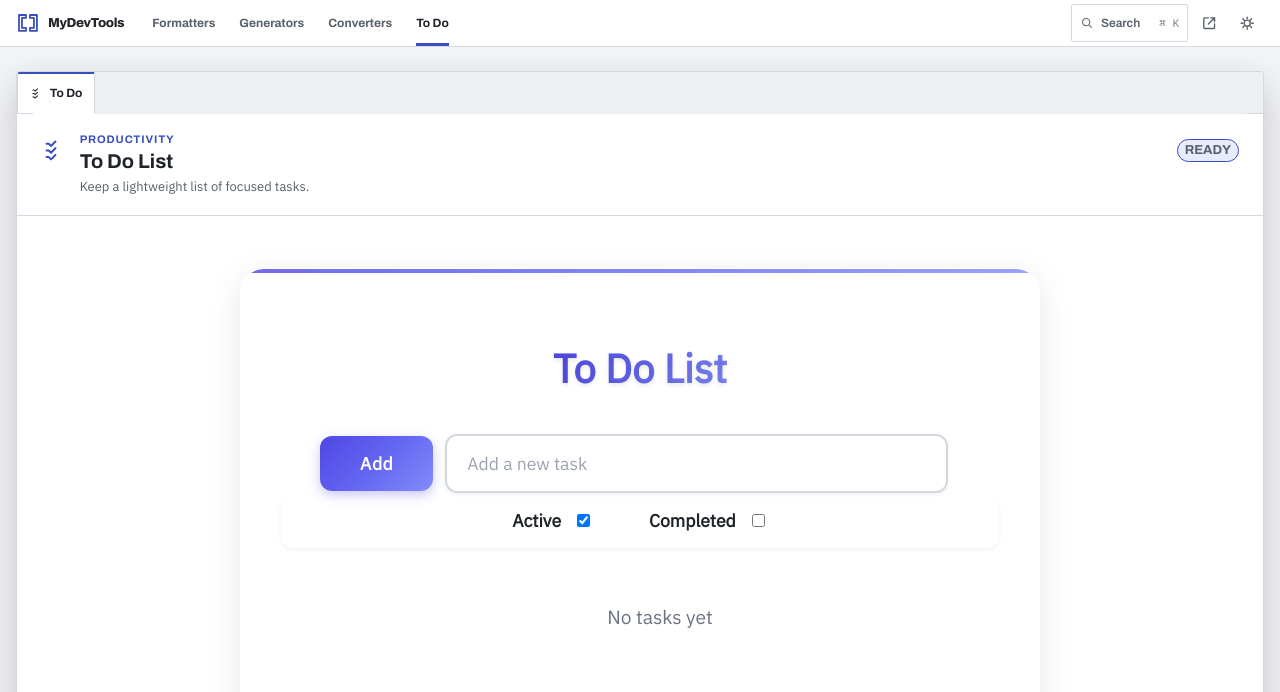
To Do List Component › filters active and completed tasks
The width and height of the screenshot is (1280, 692).
Type "Active Task" into the field with test id "task-input" at coordinates (697, 464), box [445,434,948,493]
Click the button with test id "add-btn" at coordinates (377, 464), box [320,436,433,491]
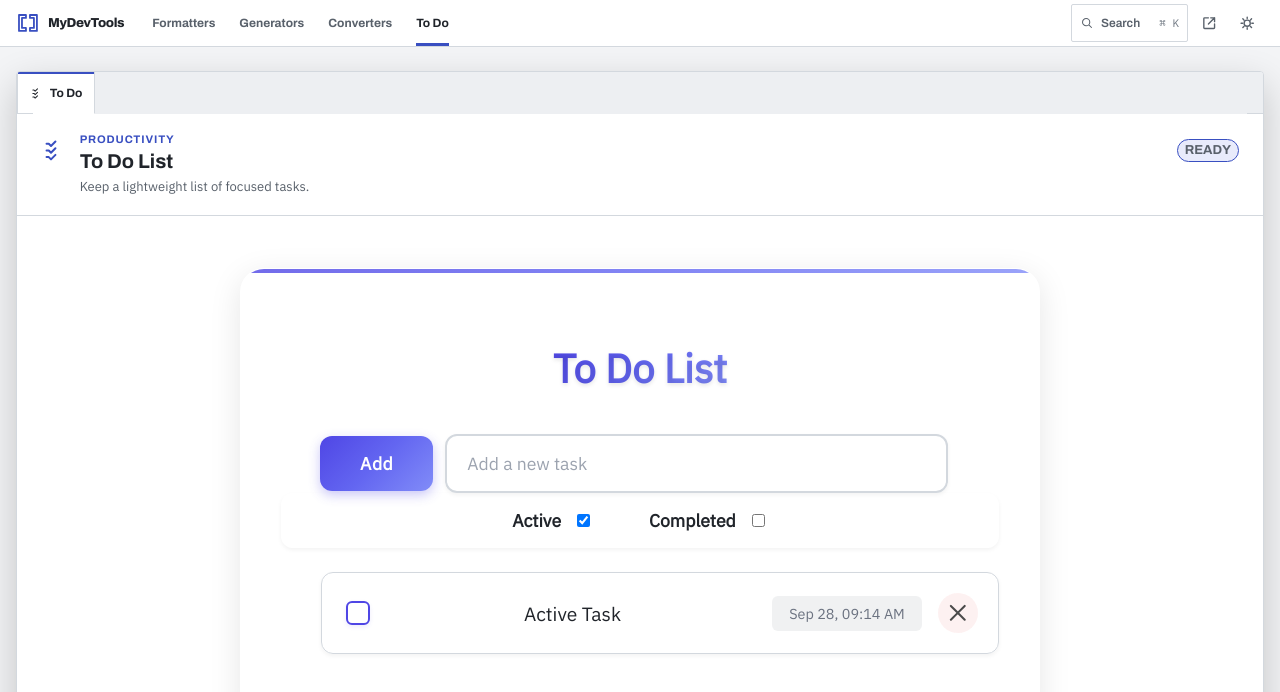
Type "Completed Task" into the field with test id "task-input" at coordinates (697, 464), box [445,434,948,493]
Click the button with test id "add-btn" at coordinates (377, 464), box [320,436,433,491]
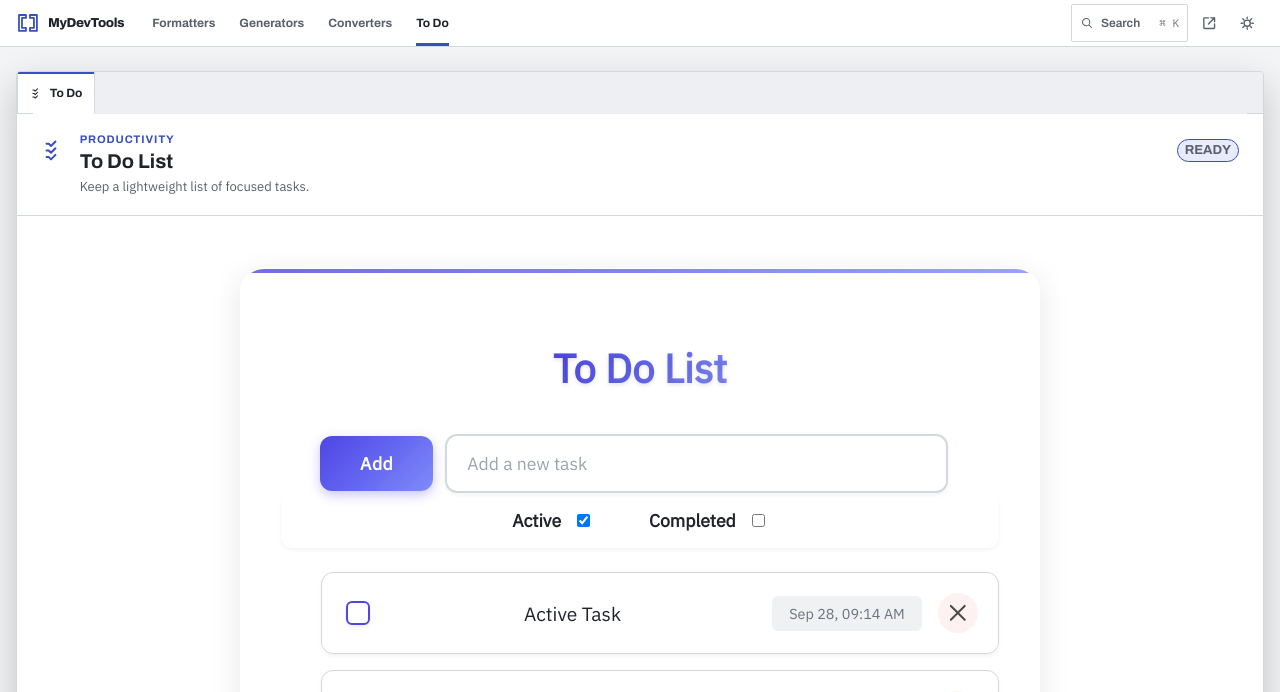
Scroll
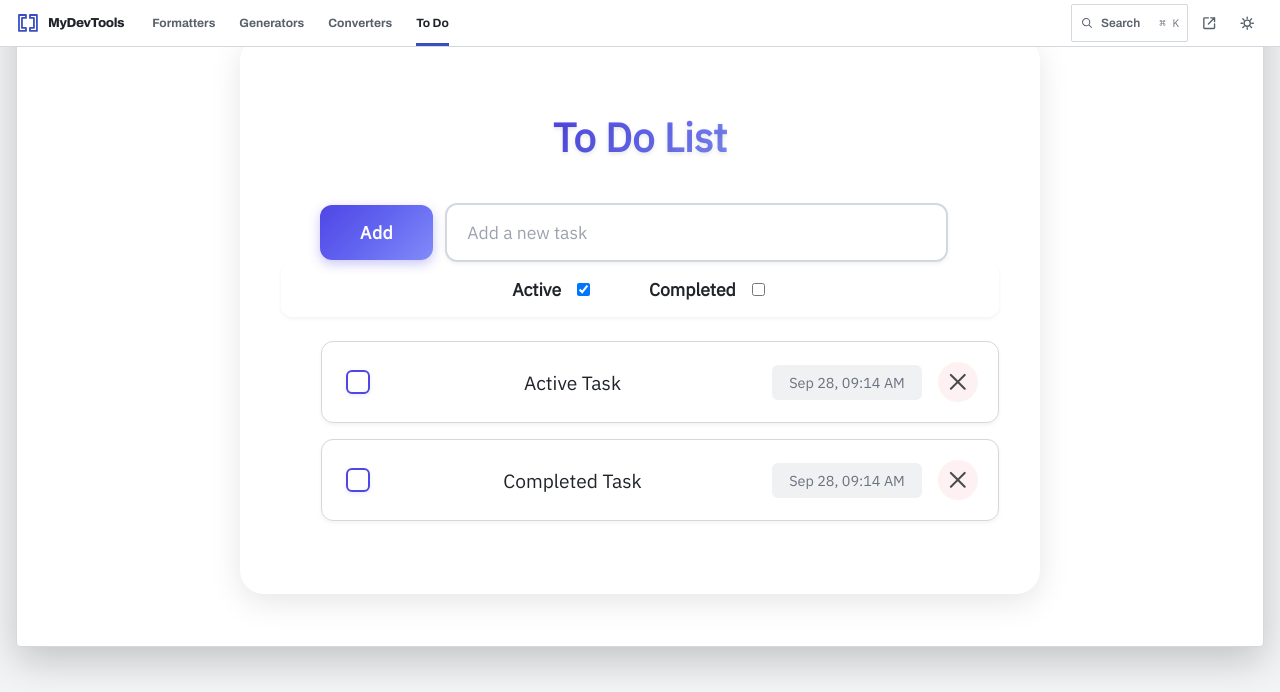
Check the checkbox with test id "task-checkbox-" at coordinates (358, 480), box [346,468,370,492]
(page scrolled)
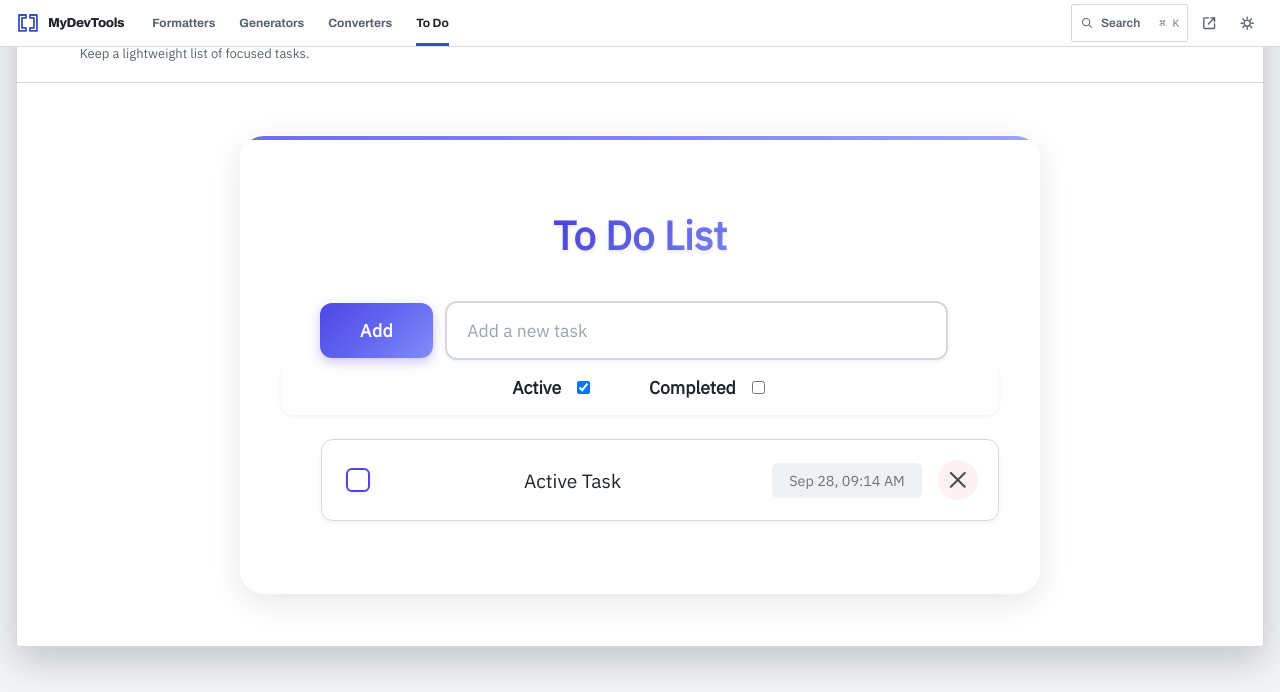
Uncheck the checkbox with test id "filter-active-checkbox" at coordinates (584, 388), box [577,381,590,394]
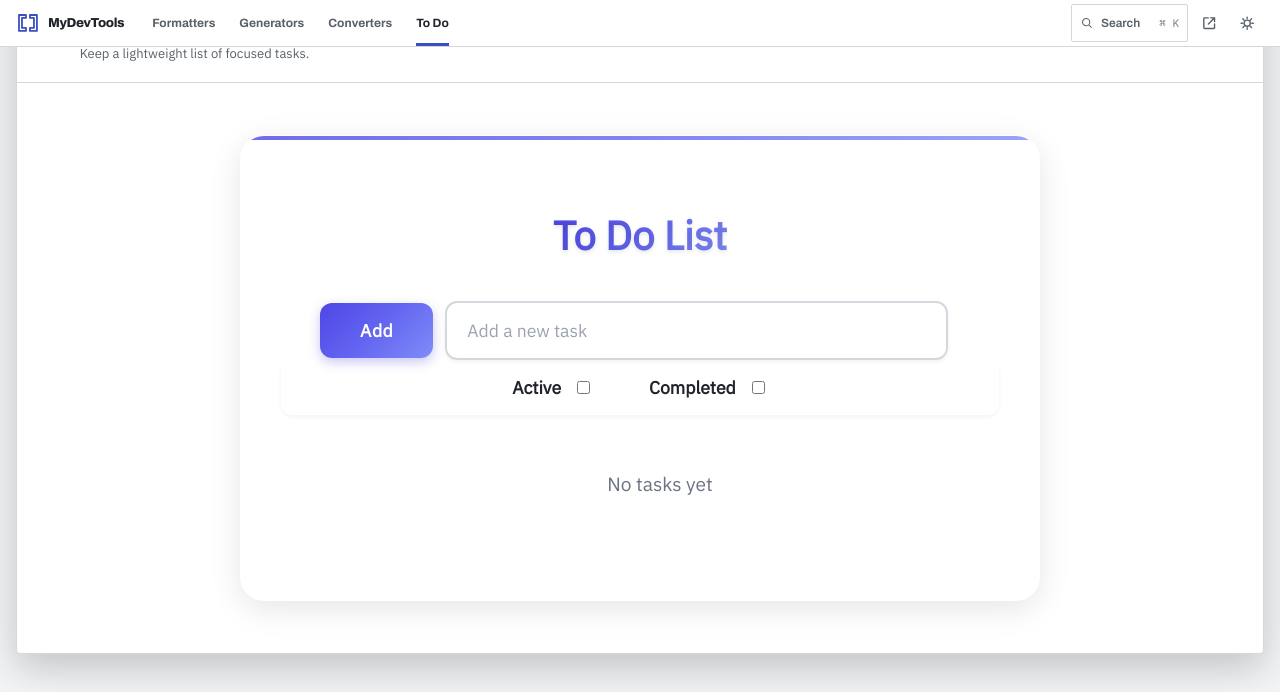
Expected: the text with test id "task-list" no longer shows "Active Task"
Check the checkbox with test id "filter-completed-checkbox" at coordinates (759, 388), box [752,381,765,394]
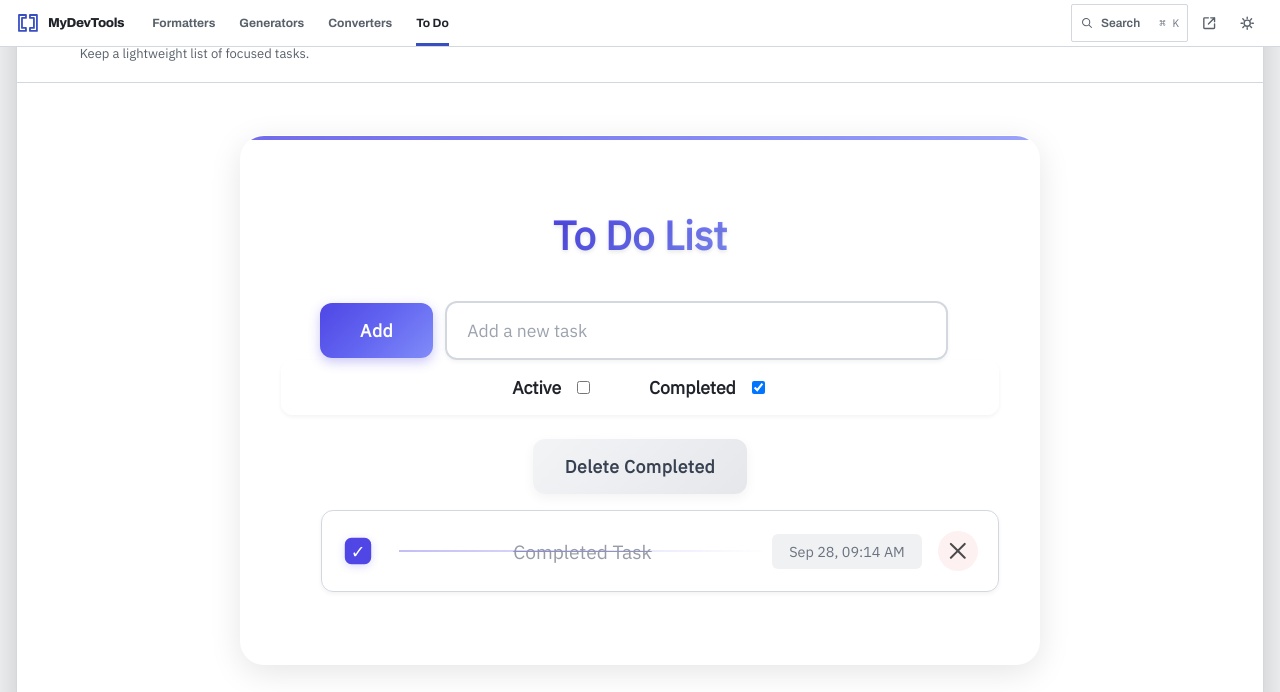
Expected: the list with test id "task-list" shows "Completed Task", [281,510,999,592]
